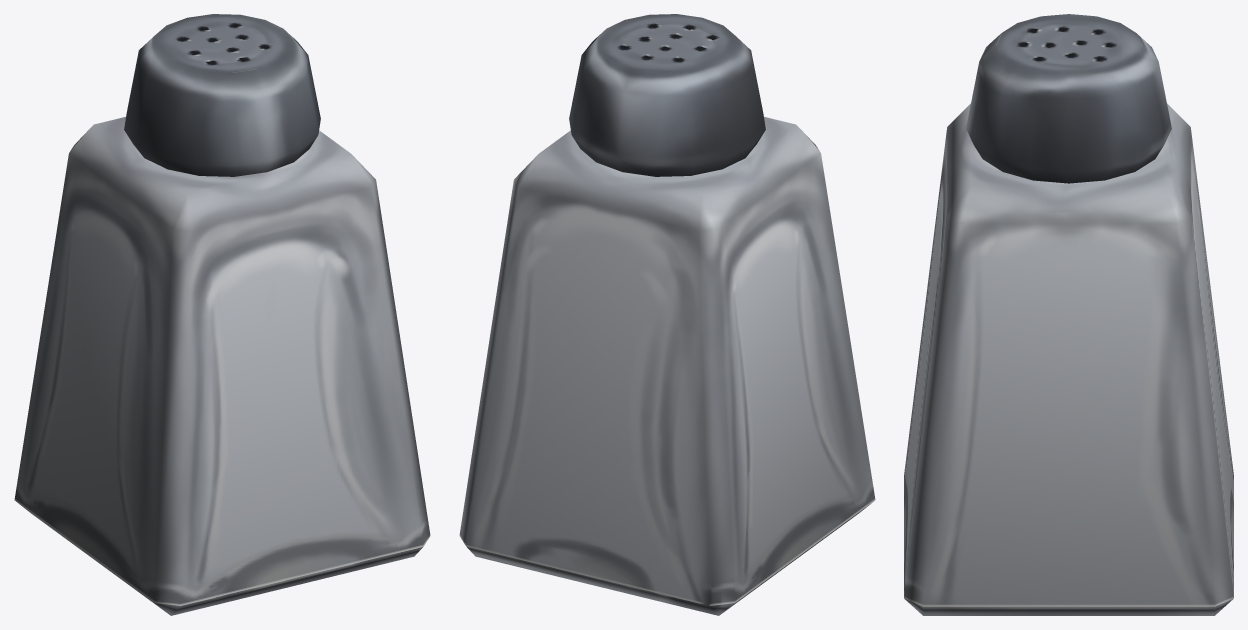
The model's file is saltshaker.fbx.
The picture shows the model from 3 angles, left to right: view 1: azimuth 30°, elevation 25°; view 2: azimuth 150°, elevation 25°; view 3: azimuth 270°, elevation 25°; orthographic projection. The views are drawn at different scales.
Visible parts, largest first — view 1: saltshaker, Cube.002; view 2: saltshaker, Cube.002; view 3: saltshaker, Cube.002.
Part boxes in pixels (x1,y1,x2,y2): saltshaker: [14, 117, 430, 615]; Cube.002: [124, 14, 320, 176]; saltshaker: [459, 117, 875, 615]; Cube.002: [569, 14, 765, 176]; saltshaker: [904, 103, 1233, 615]; Cube.002: [966, 14, 1171, 183].
Size of the model in its own units: 7.65 by 13.03 by 7.65.
